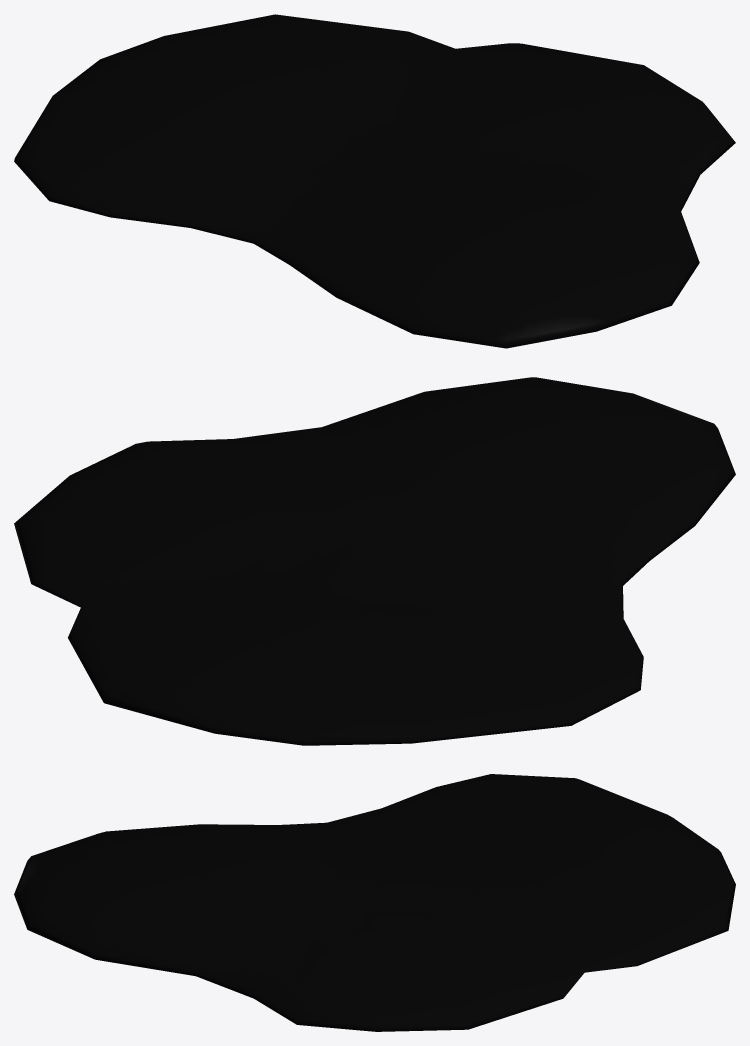
File: aceite.obj
3 views of the same model, one above another, from view 1: azimuth 30°, elevation 25°; view 2: azimuth 150°, elevation 25°; view 3: azimuth 270°, elevation 25° (orthographic). The views are drawn at different scales.
Parts seen in each view (by area): view 1: aceite_aceiteH; view 2: aceite_aceiteH; view 3: aceite_aceiteH.
Part boxes in pixels (box(x1,y1,x2,y2)): aceite_aceiteH: box(14, 14, 735, 348); aceite_aceiteH: box(14, 377, 735, 745); aceite_aceiteH: box(14, 774, 735, 1031).
Bounding box in the file's own units: 3.62 × 0.203 × 4.33.
1 material, 1 textured.
